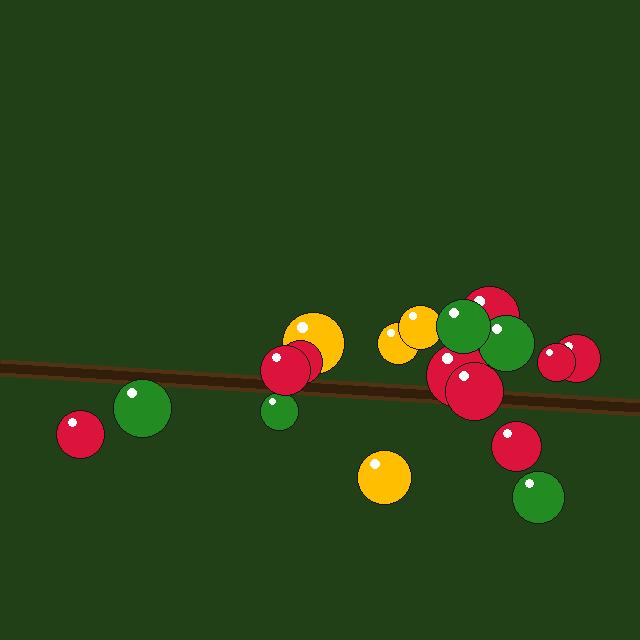Ripe: (426, 343, 490, 407), (459, 286, 519, 346), (445, 362, 503, 420), (491, 421, 541, 471), (260, 345, 310, 395), (552, 334, 600, 382), (56, 410, 104, 458), (278, 340, 322, 384), (537, 343, 575, 381)
Ripening: (282, 312, 344, 374), (357, 450, 411, 504), (398, 305, 442, 349), (377, 322, 419, 364)
Unripe: (113, 379, 171, 437), (478, 315, 534, 371), (436, 299, 490, 353), (512, 471, 564, 523), (260, 392, 298, 430)
